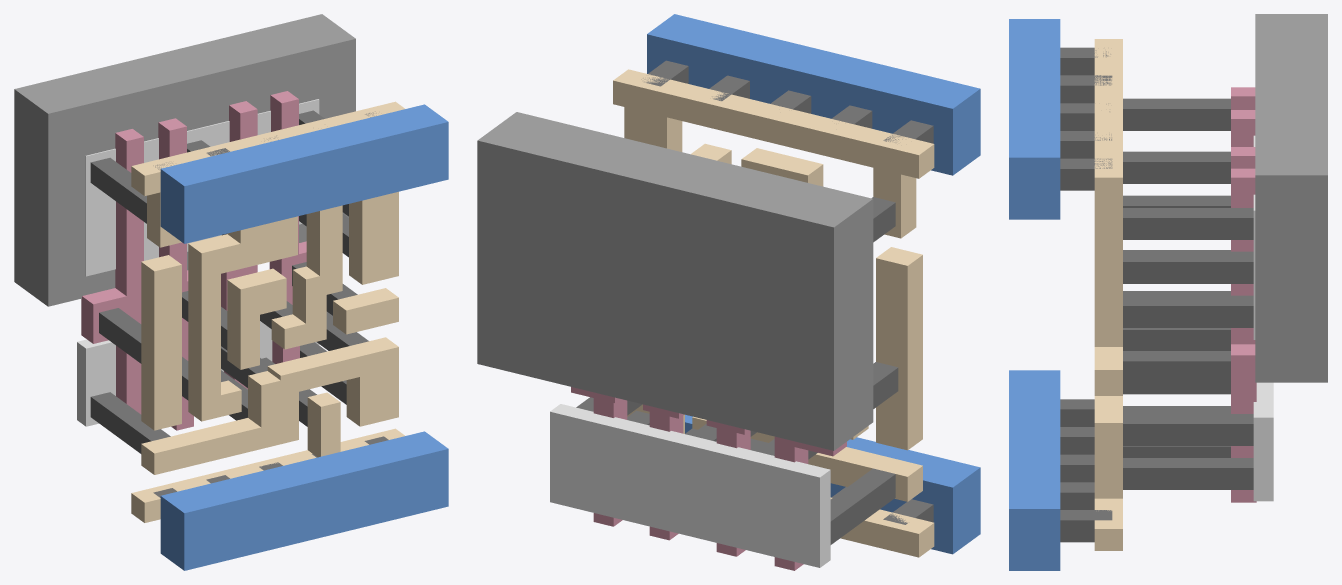
The model's file is sky130_fd_sc_hd__o22ai_1.gds.gltf.
The picture shows the model from 3 angles, left to right: view 1: azimuth 30°, elevation 25°; view 2: azimuth 150°, elevation 25°; view 3: azimuth 270°, elevation 25°; orthographic projection. The views are drawn at different scales.
Parts seen in each view (by area): view 1: sky130_fd_sc_hd__o22ai_1_li1, sky130_fd_sc_hd__o22ai_1_met1, sky130_fd_sc_hd__o22ai_1_nwell, sky130_fd_sc_hd__o22ai_1_poly, sky130_fd_sc_hd__o22ai_1_licon, sky130_fd_sc_hd__o22ai_1_diff, sky130_fd_sc_hd__o22ai_1_mcon; view 2: sky130_fd_sc_hd__o22ai_1_nwell, sky130_fd_sc_hd__o22ai_1_li1, sky130_fd_sc_hd__o22ai_1_diff, sky130_fd_sc_hd__o22ai_1_met1, sky130_fd_sc_hd__o22ai_1_licon, sky130_fd_sc_hd__o22ai_1_poly, sky130_fd_sc_hd__o22ai_1_mcon; view 3: sky130_fd_sc_hd__o22ai_1_licon, sky130_fd_sc_hd__o22ai_1_nwell, sky130_fd_sc_hd__o22ai_1_met1, sky130_fd_sc_hd__o22ai_1_li1, sky130_fd_sc_hd__o22ai_1_mcon, sky130_fd_sc_hd__o22ai_1_poly, sky130_fd_sc_hd__o22ai_1_diff.
Part boxes in pixels (x1=…): sky130_fd_sc_hd__o22ai_1_li1: x1=131, y1=101, x2=404, y2=522; sky130_fd_sc_hd__o22ai_1_met1: x1=160, y1=104, x2=448, y2=570; sky130_fd_sc_hd__o22ai_1_nwell: x1=14, y1=14, x2=355, y2=306; sky130_fd_sc_hd__o22ai_1_poly: x1=81, y1=91, x2=306, y2=430; sky130_fd_sc_hd__o22ai_1_licon: x1=90, y1=110, x2=368, y2=453; sky130_fd_sc_hd__o22ai_1_diff: x1=77, y1=99, x2=319, y2=426; sky130_fd_sc_hd__o22ai_1_mcon: x1=153, y1=111, x2=388, y2=497; sky130_fd_sc_hd__o22ai_1_nwell: x1=477, y1=112, x2=873, y2=450; sky130_fd_sc_hd__o22ai_1_li1: x1=613, y1=69, x2=934, y2=557; sky130_fd_sc_hd__o22ai_1_diff: x1=550, y1=404, x2=830, y2=567; sky130_fd_sc_hd__o22ai_1_met1: x1=647, y1=14, x2=980, y2=554; sky130_fd_sc_hd__o22ai_1_licon: x1=576, y1=197, x2=898, y2=544; sky130_fd_sc_hd__o22ai_1_poly: x1=571, y1=387, x2=846, y2=570; sky130_fd_sc_hd__o22ai_1_mcon: x1=641, y1=60, x2=933, y2=524; sky130_fd_sc_hd__o22ai_1_licon: x1=1123, y1=98, x2=1253, y2=489; sky130_fd_sc_hd__o22ai_1_nwell: x1=1255, y1=14, x2=1327, y2=382; sky130_fd_sc_hd__o22ai_1_met1: x1=1009, y1=19, x2=1060, y2=570; sky130_fd_sc_hd__o22ai_1_li1: x1=1094, y1=39, x2=1122, y2=550; sky130_fd_sc_hd__o22ai_1_mcon: x1=1060, y1=47, x2=1112, y2=542; sky130_fd_sc_hd__o22ai_1_poly: x1=1231, y1=87, x2=1256, y2=502; sky130_fd_sc_hd__o22ai_1_diff: x1=1253, y1=135, x2=1273, y2=501.
Size of the model in its own units: 2.68 by 3.2 by 2.24.
